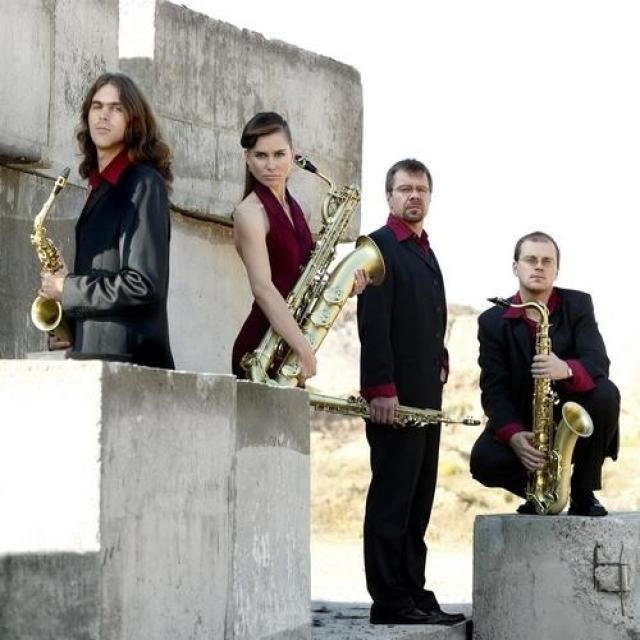saxophone: (240, 167, 384, 397), (484, 289, 594, 516), (27, 166, 87, 350)
